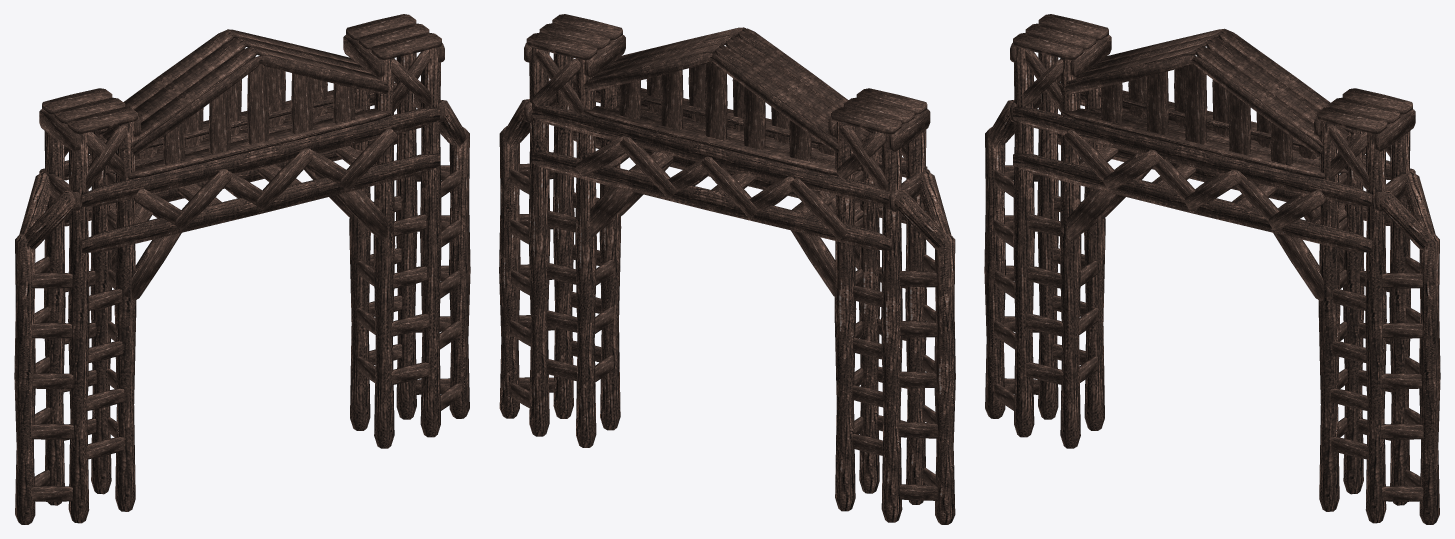
The model's file is WoodenGate01.FBX.
The picture shows the model from 3 angles, left to right: view 1: azimuth 30°, elevation 25°; view 2: azimuth 150°, elevation 25°; view 3: azimuth 330°, elevation 25°; orthographic projection.
Parts seen in each view (by area): view 1: WoodenGate01; view 2: WoodenGate01; view 3: WoodenGate01.
Part boxes in pixels (x1,y1,x2,y2): WoodenGate01: (14, 14, 470, 524); WoodenGate01: (499, 14, 955, 524); WoodenGate01: (984, 14, 1440, 524).
Bounding box in the file's own units: 1754 × 1599 × 277.
